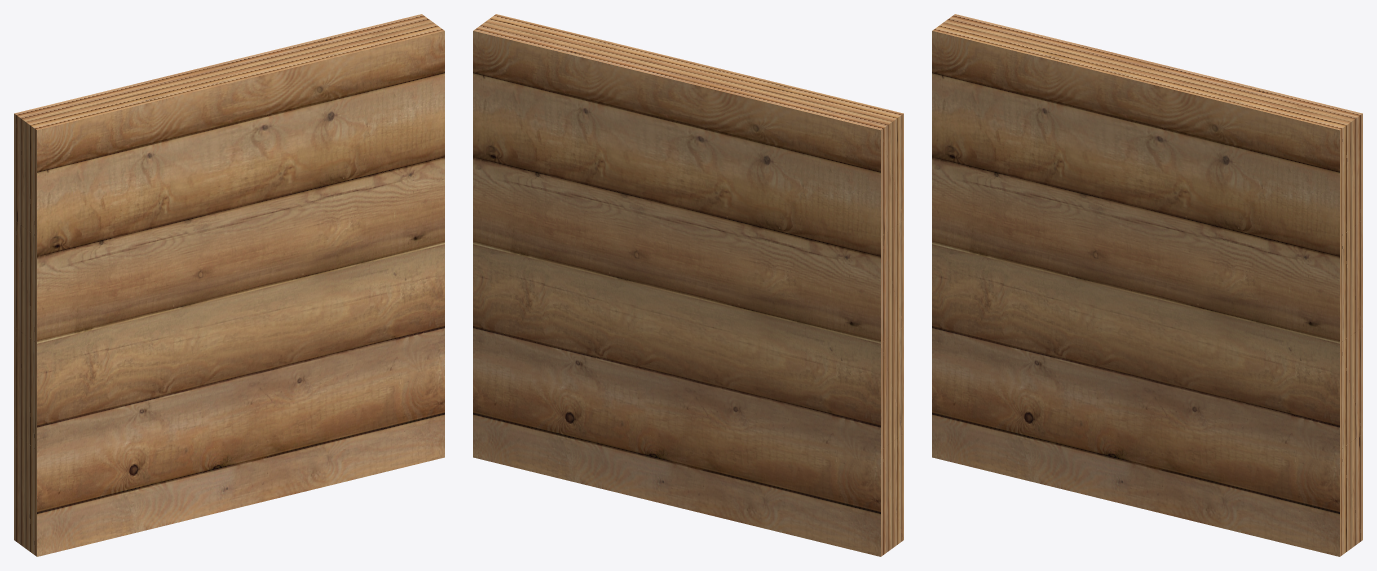
File: no hole.FBX
The picture shows the model from 3 angles, left to right: view 1: azimuth 30°, elevation 25°; view 2: azimuth 150°, elevation 25°; view 3: azimuth 330°, elevation 25°; orthographic projection.
Visible parts, largest first — view 1: Object001; view 2: Object001; view 3: Object001.
Part boxes in pixels (x1,y1,x2,y2): Object001: (14, 14, 444, 556); Object001: (473, 14, 903, 556); Object001: (932, 14, 1362, 556).
Size of the model in its own units: 2 by 2 by 0.1951.
1 material, 1 textured.
